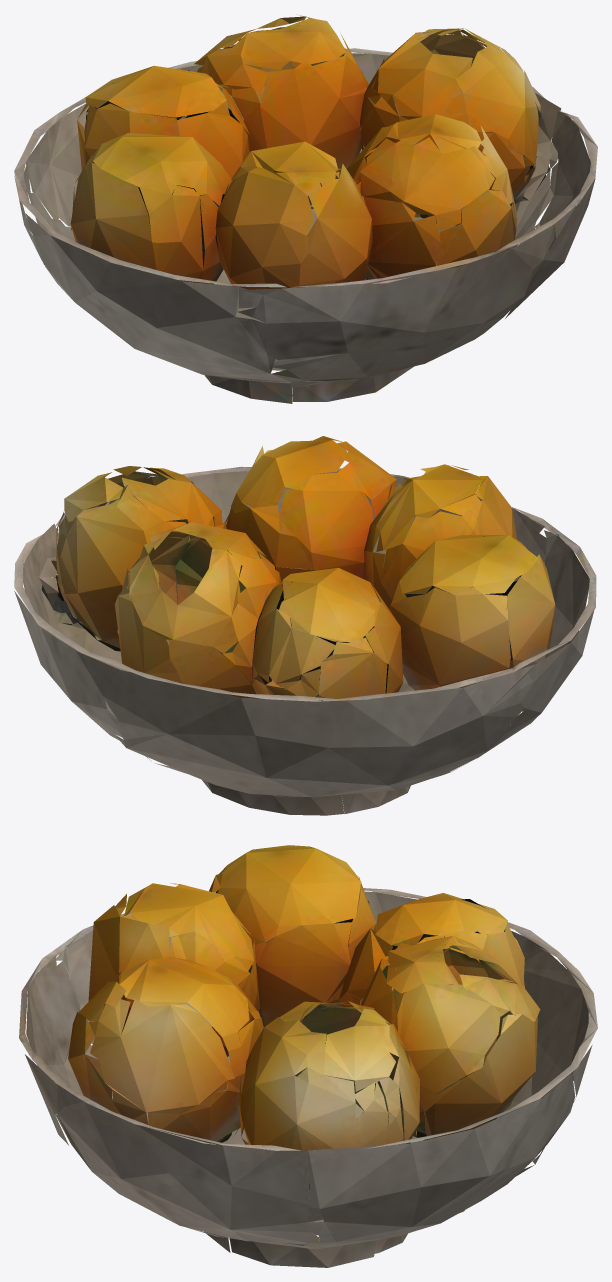
File: k-coupe.glb
The picture shows the model from 3 angles, top to bottom: view 1: azimuth 30°, elevation 25°; view 2: azimuth 150°, elevation 25°; view 3: azimuth 270°, elevation 25°; orthographic projection. The views are drawn at different scales.
Parts seen in each view (by area): view 1: geometry_0; view 2: geometry_0; view 3: geometry_0.
Part boxes in pixels (x1,y1,x2,y2): geometry_0: (14,14,597,403); geometry_0: (14,436,596,815); geometry_0: (19,845,597,1267).
Bounding box in the file's own units: 1.01 × 0.511 × 0.9292.
Materials: 1 (1 with a texture image).
